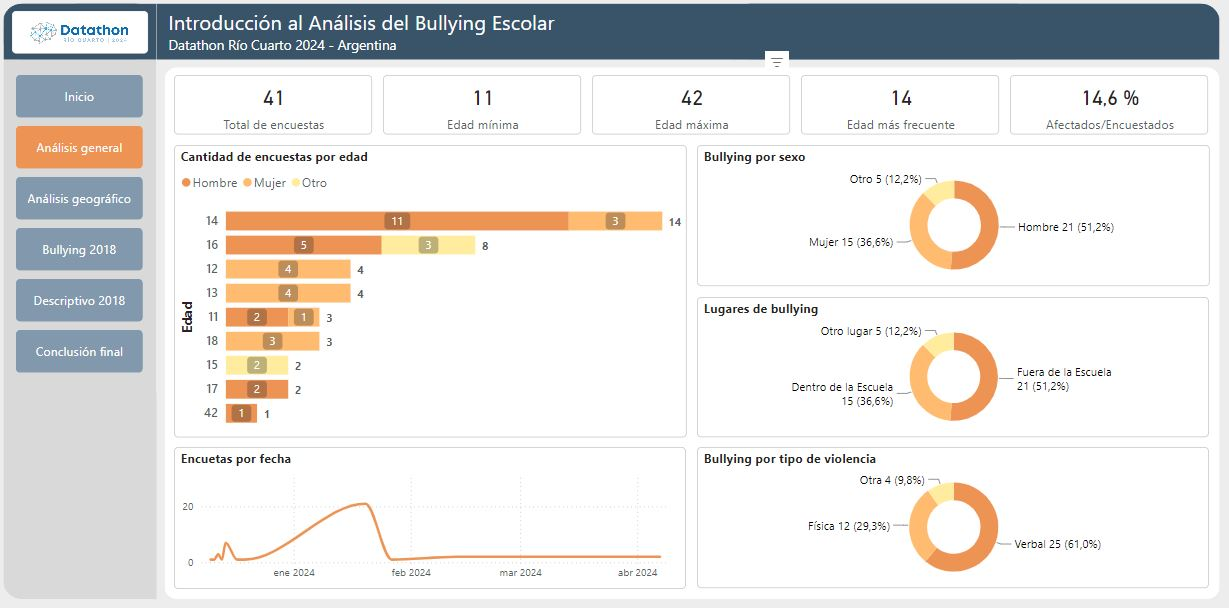

What the dashboard file says about the page in this screenshot:
{"tool":"powerbi","page":{"name":"Bullying 2018","canvas":[1450,720],"ordinal":6},"visuals":[{"type":"barChart","title":"Cantidad de encuestas por edad","fields":{"Category":["FACT_Bullying_2018.Age"],"Y":["Medidas.Q Denuncias historico"],"Series":["FACT_Bullying_2018.Sex"]},"box":[209.2,174.7,602,521.9],"z":0},{"type":"donutChart","title":"Lugares de bullying","fields":{"Y":["Medidas.Dentro de la escuela","Medidas.Fuera de la escuela","Medidas.Ciber Bullying"]},"box":[824,353.5,601.9,165.2],"z":1000},{"type":"donutChart","title":"Bullying por tipo de violencia","fields":{"Y":["Medidas.Q Ataque","Medidas.Q Peleas"]},"box":[824,530.8,601.9,166.3],"z":2000},{"type":"card","fields":{"Values":["Medidas.Q Denuncias historico"]},"box":[209,93,233,70],"z":3000},{"type":"donutChart","title":"Bullying por sexo","fields":{"Y":["Medidas.Q Encuestas historico"],"Category":["FACT_Bullying_2018.Sex"]},"box":[824,175.1,603,166.3],"z":4000},{"type":"card","fields":{"Values":["Min(FACT_Bullying_2018.Age)"]},"box":[455,93,233,70],"z":5000},{"type":"card","fields":{"Values":["Max(FACT_Bullying_2018.Age)"]},"box":[700.9,93,233,70],"z":6000},{"type":"card","fields":{"Values":["Medidas.Moda Edad historico"]},"box":[946.9,93,233,70],"z":7000},{"type":"card","fields":{"Values":["Medidas.Moda Edad historico menos freq"]},"box":[1192.8,93,233.1,70],"z":8000},{"type":"textbox","box":[197,9.8,1230,64.6],"z":9000},{"type":"image","box":[18.6,17.5,159.8,50.3],"z":10000},{"type":"pageNavigator","box":[23.2,92.9,149.8,350],"z":11000}]}

Visuals, with their boxes on the page's 1450x720 design canvas (x1, y1, x2, y2). These are canvas units, not pixel positions in the 1229x613 screenshot, which may show the page scaled, cropped or inside an application window:
"Cantidad de encuestas por edad" barChart: (209, 175, 811, 697)
"Lugares de bullying" donutChart: (824, 354, 1426, 519)
"Bullying por tipo de violencia" donutChart: (824, 531, 1426, 697)
card - Medidas.Q Denuncias historico: (209, 93, 442, 163)
"Bullying por sexo" donutChart: (824, 175, 1427, 341)
card - Min(FACT_Bullying_2018.Age): (455, 93, 688, 163)
card - Max(FACT_Bullying_2018.Age): (701, 93, 934, 163)
card - Medidas.Moda Edad historico: (947, 93, 1180, 163)
card - Medidas.Moda Edad historico menos freq: (1193, 93, 1426, 163)
textbox: (197, 10, 1427, 74)
image: (19, 18, 178, 68)
pageNavigator: (23, 93, 173, 443)
